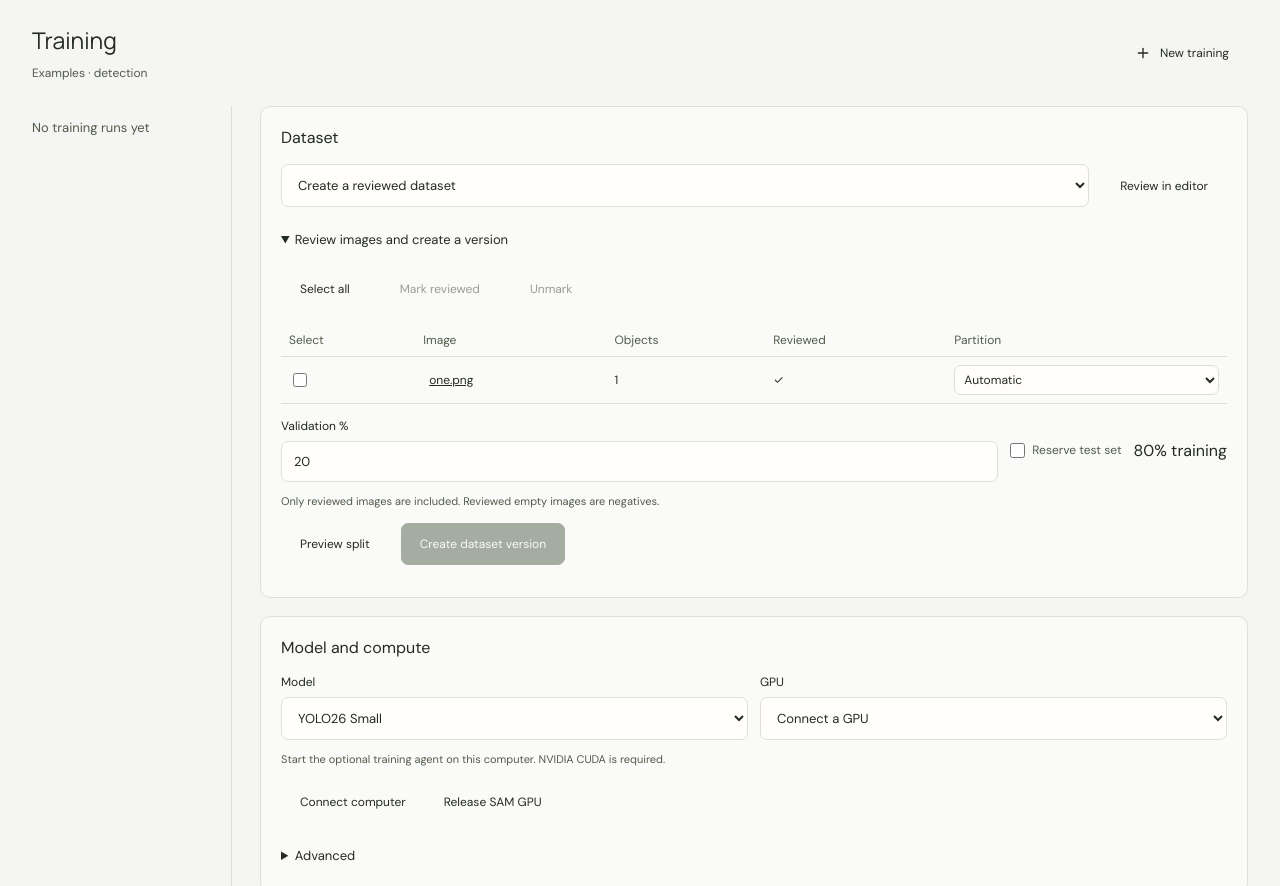
Test: training workspace › binds creation to the compact preview fingerprint and invalidates rejected previews
Click the button "Preview split" at (335, 544), box [281,523,389,565]
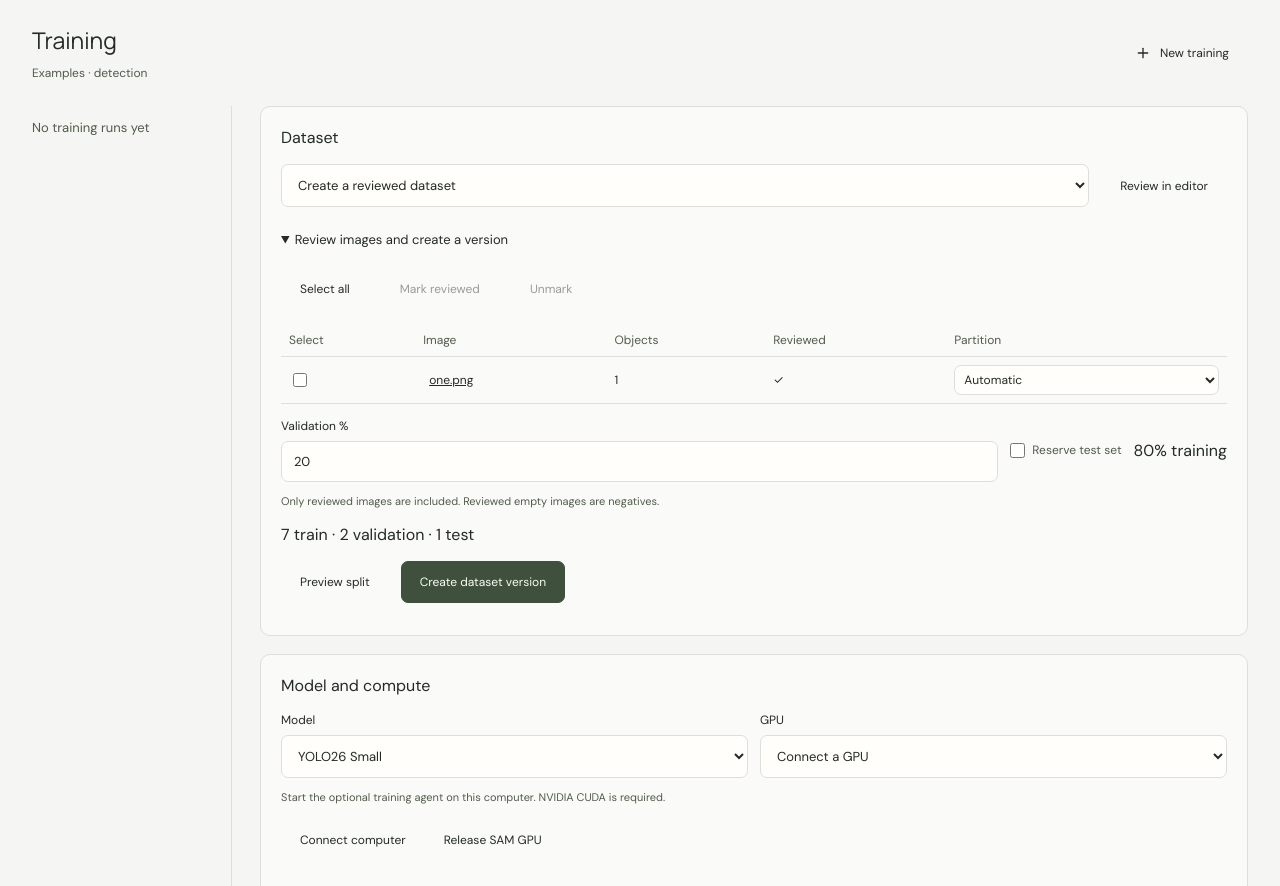
Result: the button "Create dataset version" is enabled
Click the button "Create dataset version" at (483, 582), box [401,561,565,603]
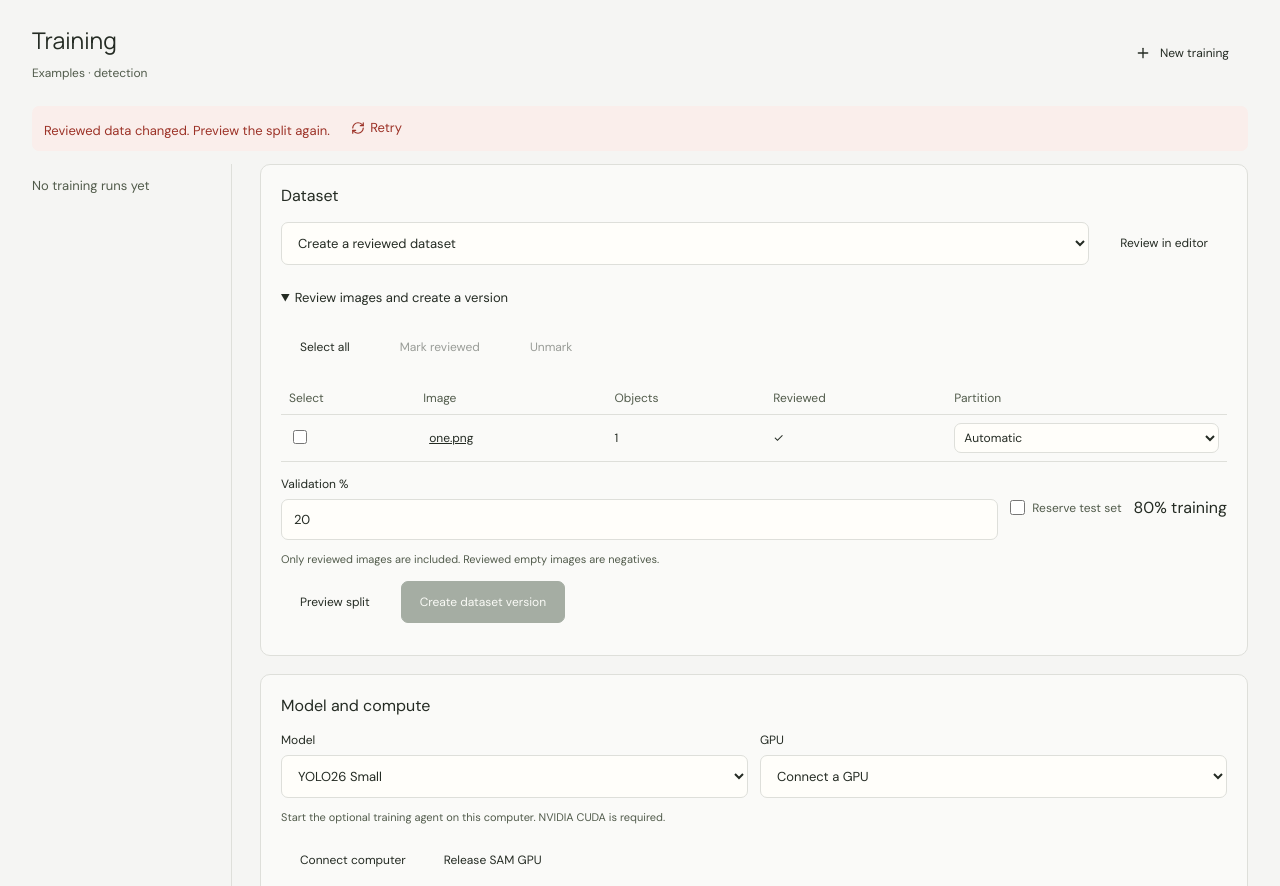
Result: the text "Reviewed data changed. Preview the split again." is shown at [44,122,330,138]
Result: the button "Create dataset version" is disabled at [401,580,565,622]
